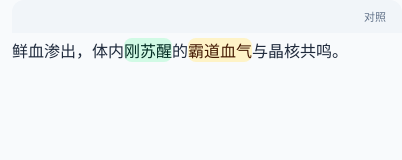
Test case: highlights only changed characters and reveals their original text above
The image size is (402, 160).
Check: the element with test id "inline-diff-new" reads "鲜血渗出，体内刚苏醒的 霸道血气 与晶核共鸣。", box [12,36,401,62]
Check: the text "鲜血渗出，体内" is not shown
Click the button with aria-label "查看修改原文" at (220, 50), box [188,38,252,62]
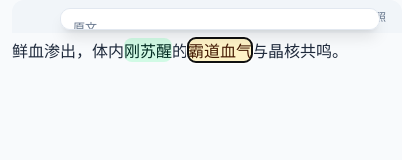
Check: the tooltip shows "原文", box [73,18,97,35]
Press Escape
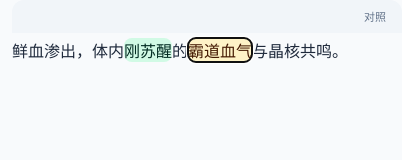
Check: the tooltip "原文" is gone
